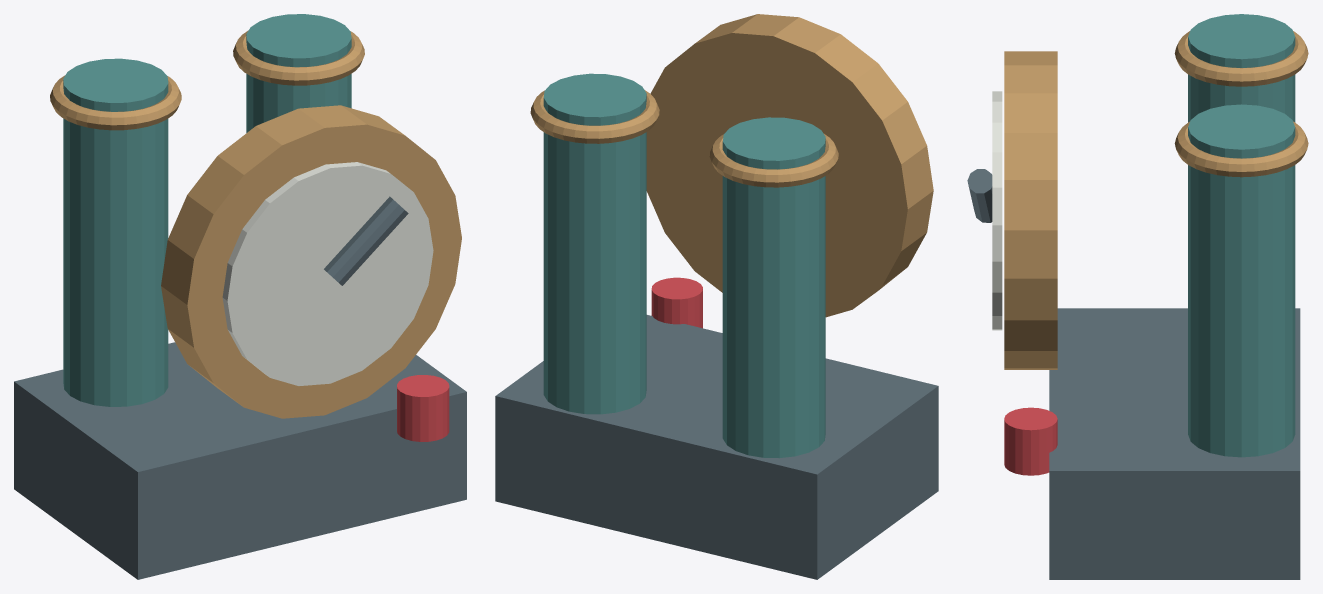
Rendered from PressureRegulator.glb.
3 views of the same model, side by side, from view 1: azimuth 30°, elevation 25°; view 2: azimuth 150°, elevation 25°; view 3: azimuth 270°, elevation 25° (orthographic). The views are drawn at different scales.
Visible parts, largest first — view 1: PressureRegulator; view 2: PressureRegulator; view 3: PressureRegulator.
Part boxes in pixels (x1,y1,x2,y2): PressureRegulator: [14, 14, 466, 579]; PressureRegulator: [495, 14, 938, 579]; PressureRegulator: [967, 14, 1308, 579].
Bounding box in the file's own units: 1.15 × 1.43 × 1.02.
